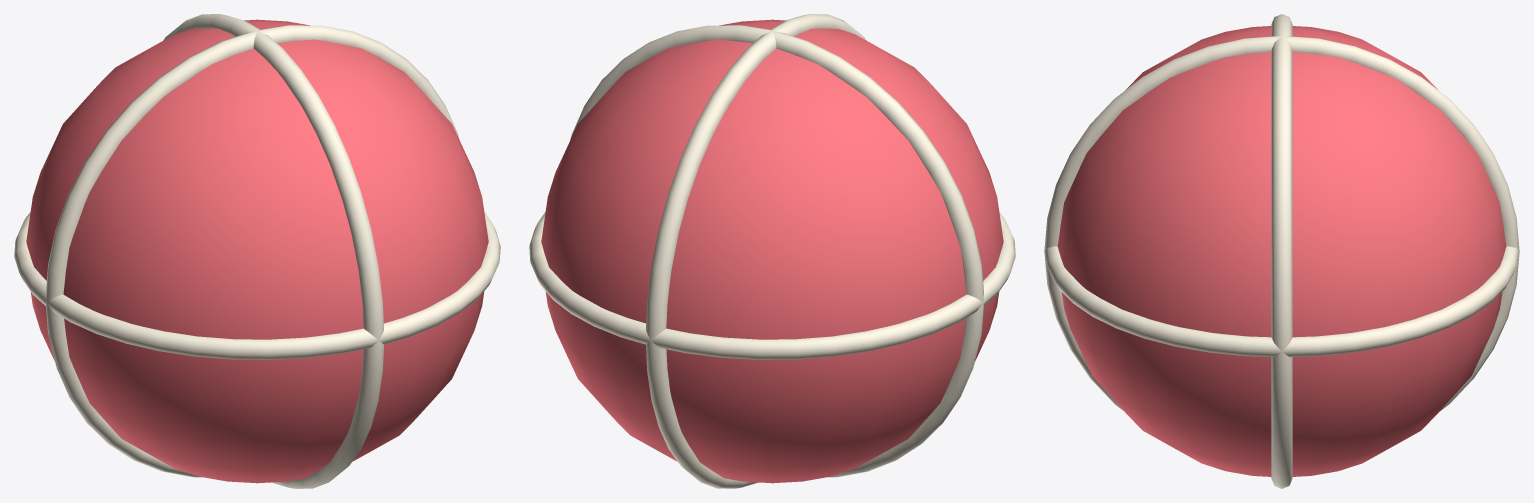
Rendered from BallBasketMoving_Premium.fbx.
3 renders of one model, left to right at view 1: azimuth 30°, elevation 25°; view 2: azimuth 150°, elevation 25°; view 3: azimuth 270°, elevation 25°, orthographic. The views are drawn at different scales.
Parts seen in each view (by area): view 1: BallBasket_Moving; view 2: BallBasket_Moving; view 3: BallBasket_Moving.
Part boxes in pixels (x1=…): BallBasket_Moving: x1=14, y1=14, x2=500, y2=488; BallBasket_Moving: x1=529, y1=14, x2=1015, y2=488; BallBasket_Moving: x1=1044, y1=14, x2=1519, y2=488.
Bounding box in the file's own units: 0.1637 × 0.1637 × 0.1637.
